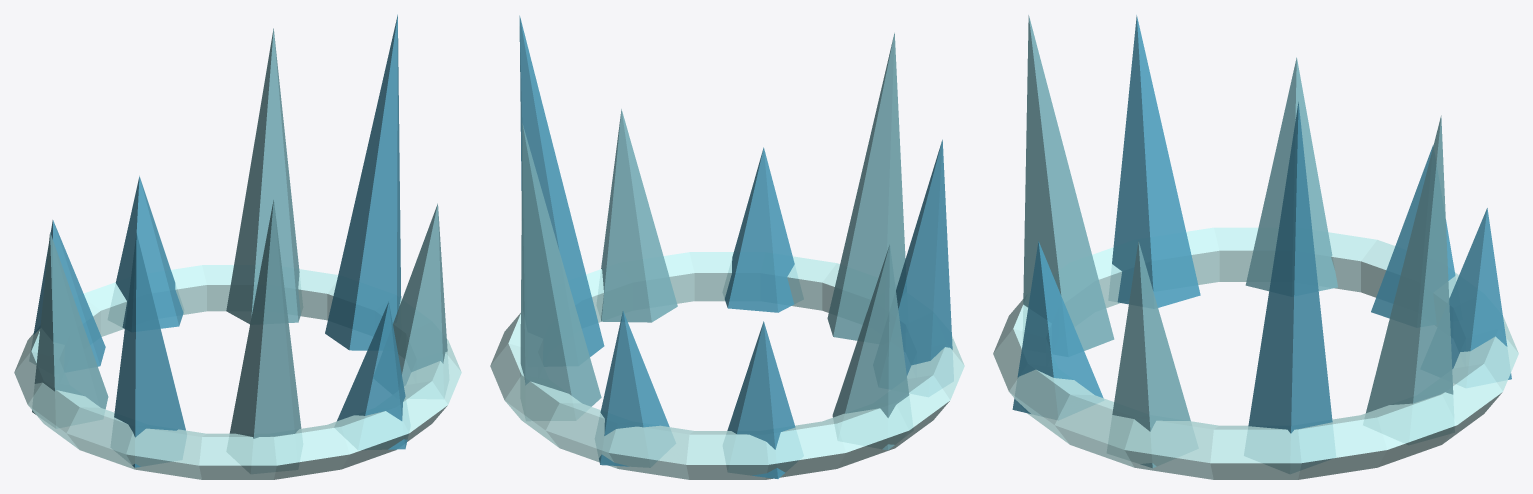
The model's file is hat_ice_crown.glb.
3 renders of one model, left to right at view 1: azimuth 30°, elevation 25°; view 2: azimuth 150°, elevation 25°; view 3: azimuth 270°, elevation 25°, orthographic. The views are drawn at different scales.
Parts seen in each view (by area): view 1: Hat; view 2: Hat; view 3: Hat.
Part boxes in pixels (x1,y1,x2,y2): Hat: (14,14,461,479); Hat: (490,15,964,479); Hat: (993,15,1518,479).
Bounding box in the file's own units: 0.4786 × 0.3873 × 0.486.
